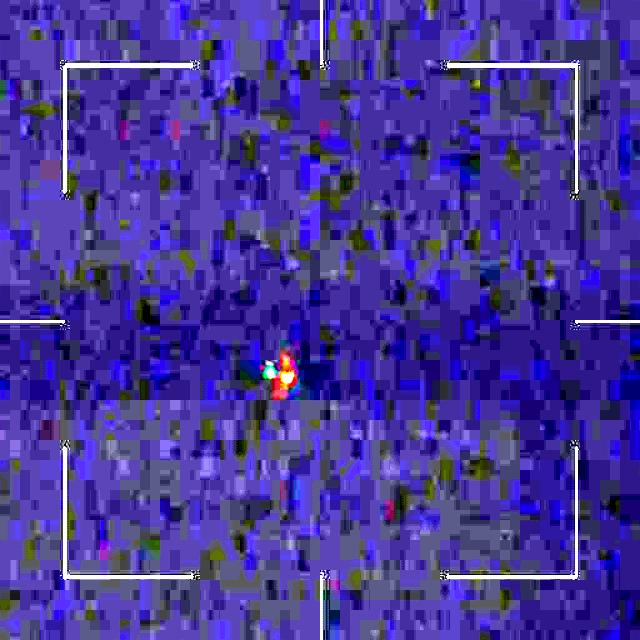bird: (264, 354, 298, 405)
